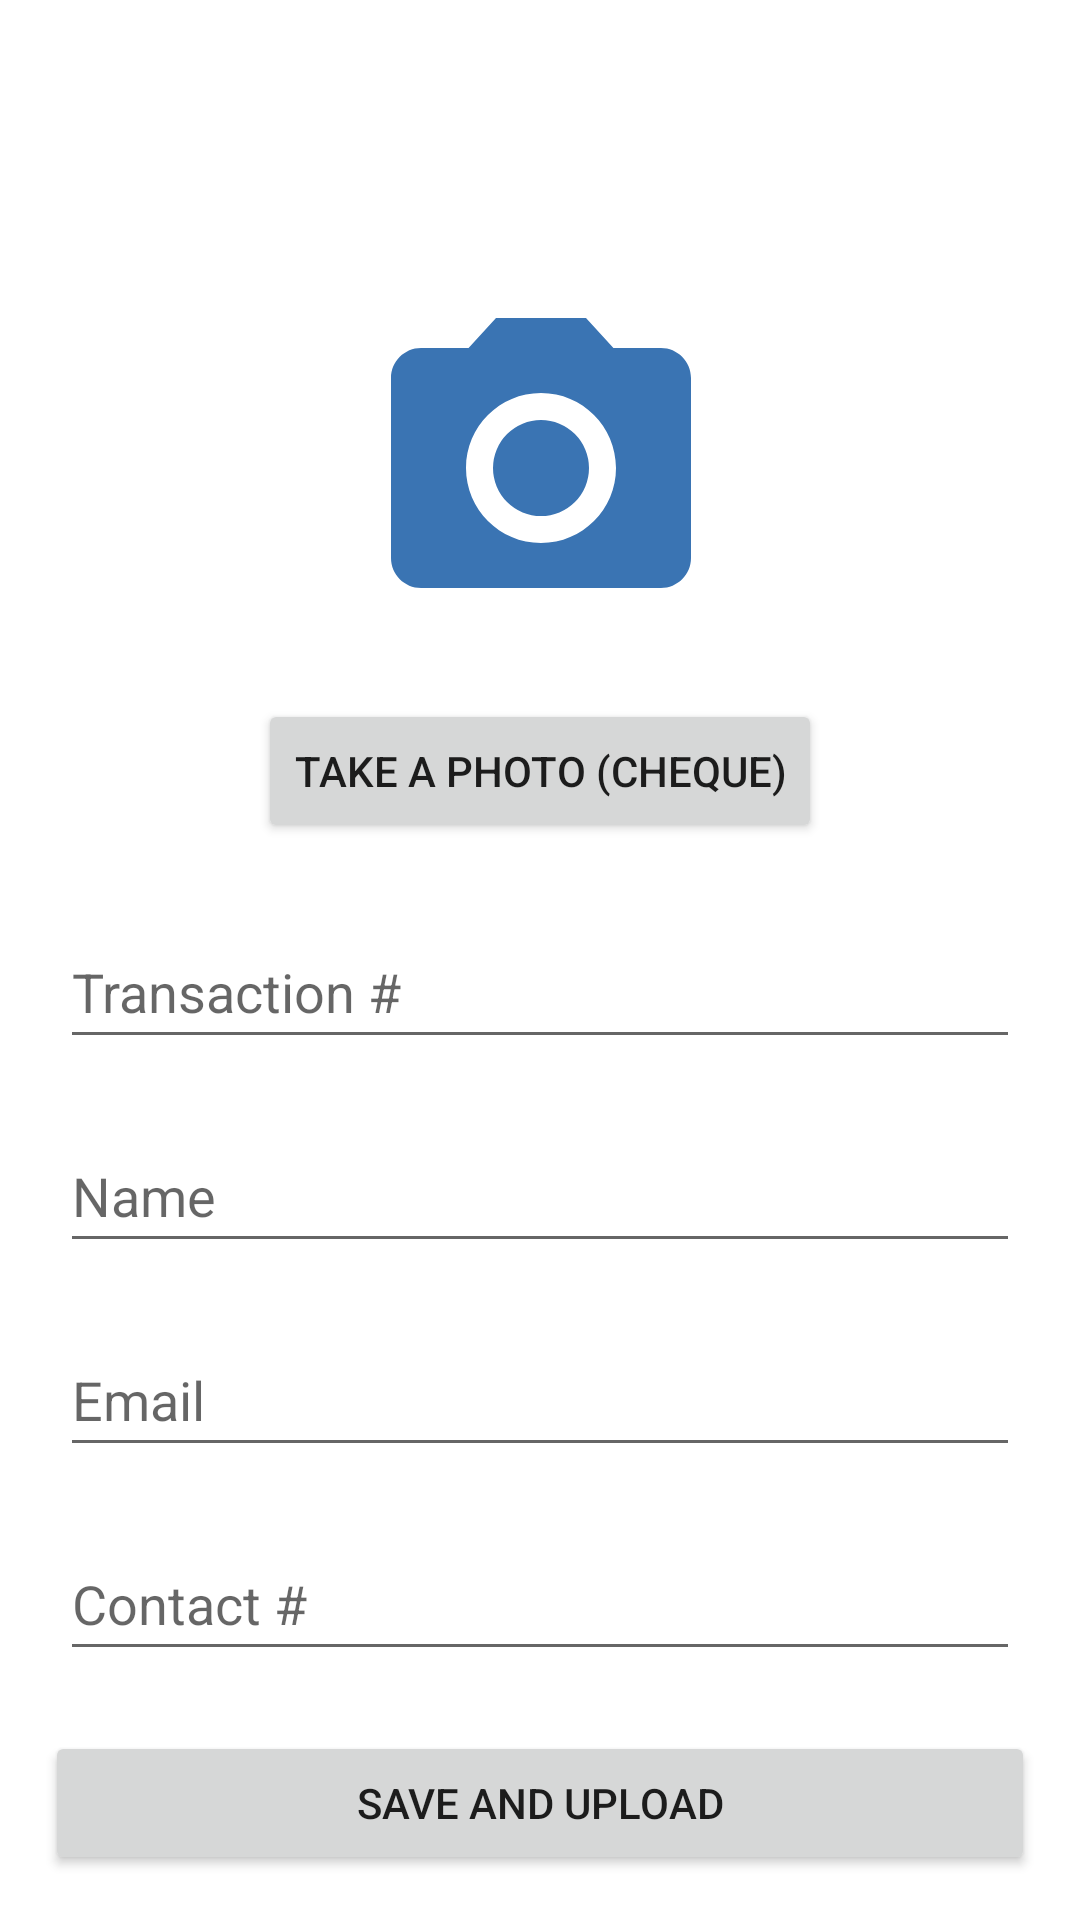

Icons on this 1080 x 1920 Android screen, each with the point to tap as point (x, y):
photo camera: point (541, 453)
